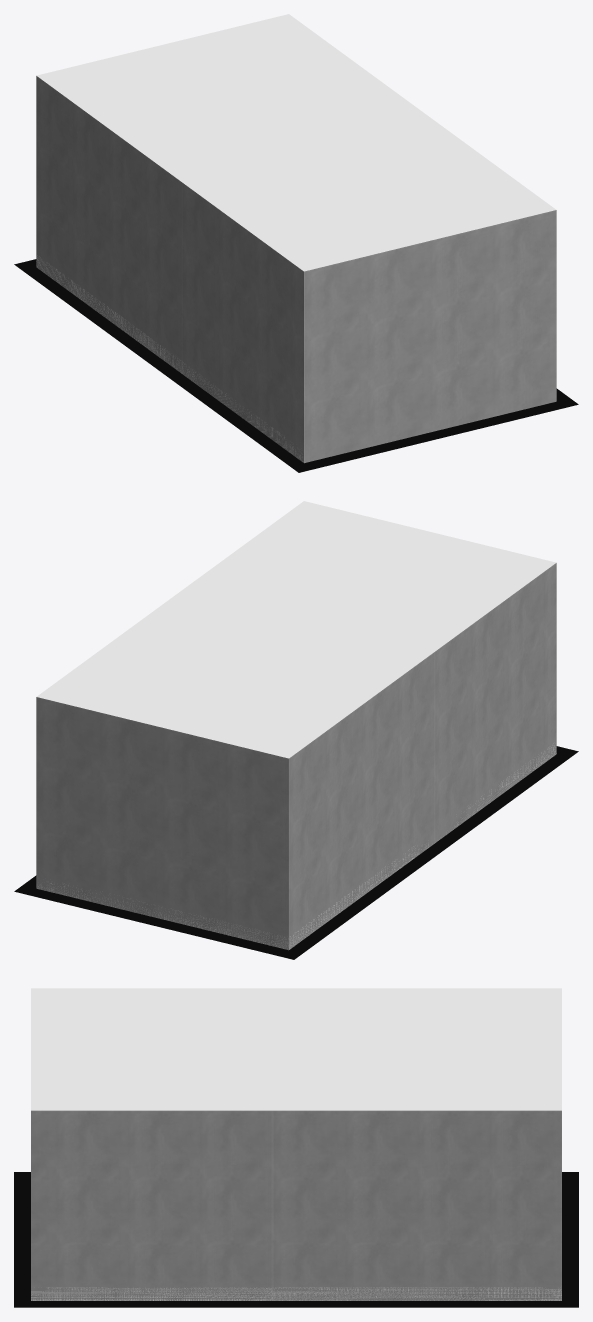
File: Env0002.dae
3 renders of one model, top to bottom at view 1: azimuth 30°, elevation 25°; view 2: azimuth 150°, elevation 25°; view 3: azimuth 270°, elevation 25°, orthographic.
Parts seen in each view (by area): view 1: aux-mesh (×3), walls1, walls4; view 2: aux-mesh (×4), walls1, walls2; view 3: walls3, aux-mesh (×3).
Part boxes in pixels (<box>): aux-mesh (×3): <box>14,14,578,472</box>; walls1: <box>36,76,303,462</box>; walls4: <box>304,210,556,463</box>; aux-mesh (×4): <box>14,501,578,959</box>; walls1: <box>289,563,556,949</box>; walls2: <box>36,697,288,949</box>; walls3: <box>31,1110,561,1300</box>; aux-mesh (×3): <box>14,988,578,1307</box>.
Size of the model in its own units: 4.44 by 2.9 by 7.81.
15 materials, 6 textured.
